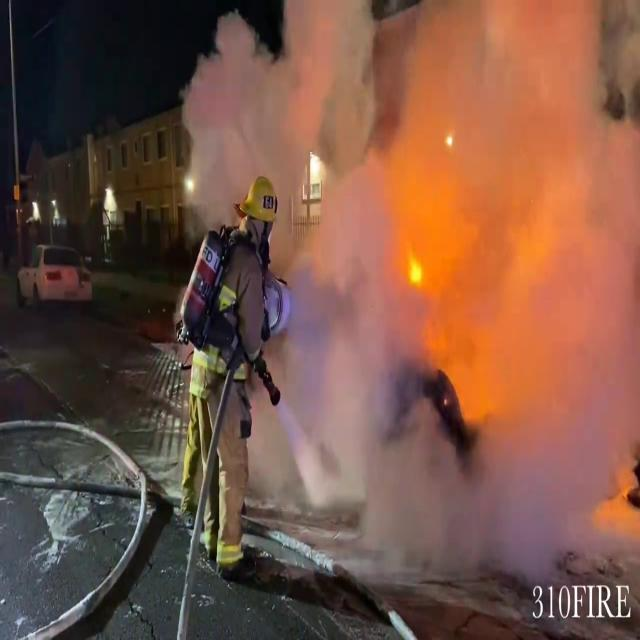Smoke: (181, 0, 640, 563)
